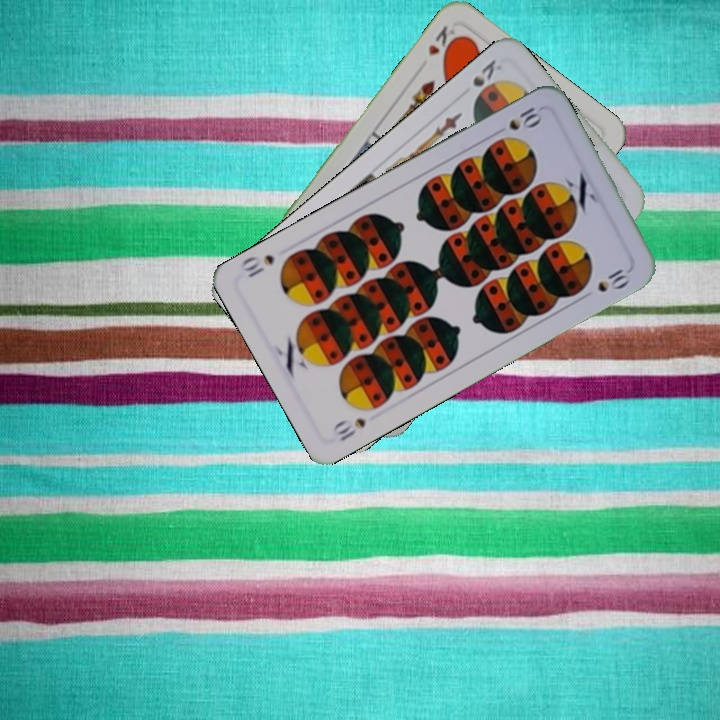HK: (424, 21, 463, 61)
S10: (489, 102, 545, 138), (328, 413, 369, 444)
SK: (468, 55, 505, 90)
